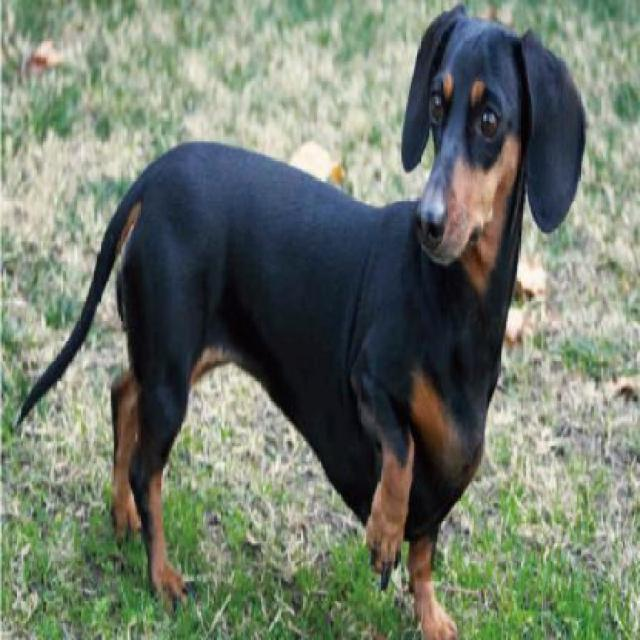Dog: (11, 1, 589, 638)
